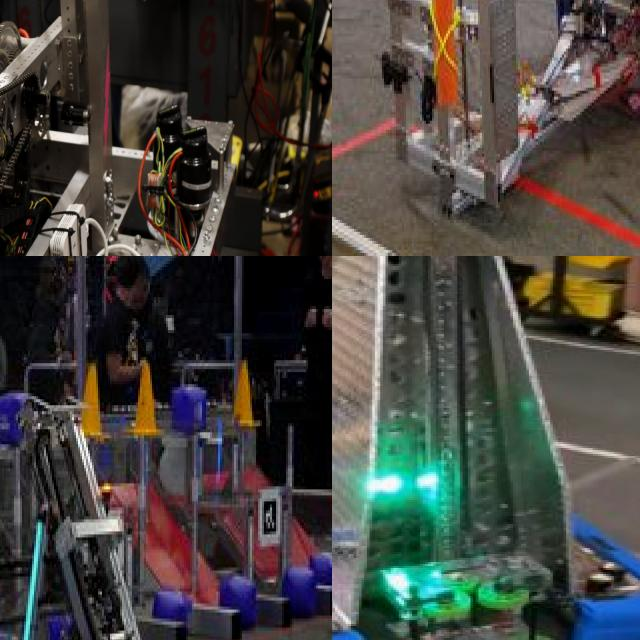FRC-Robots: (332, 256, 640, 640), (0, 0, 332, 256), (0, 382, 203, 640), (398, 0, 640, 172)
